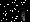person: (17, 6, 25, 21)
